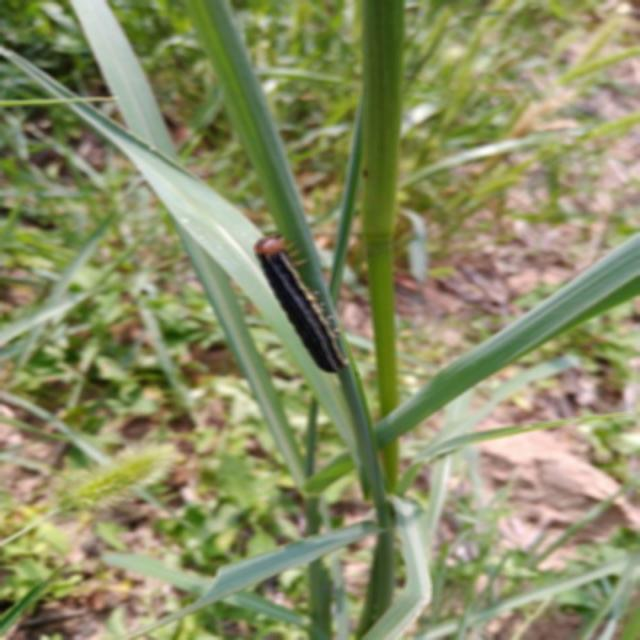army worm: (251, 233, 357, 374)
